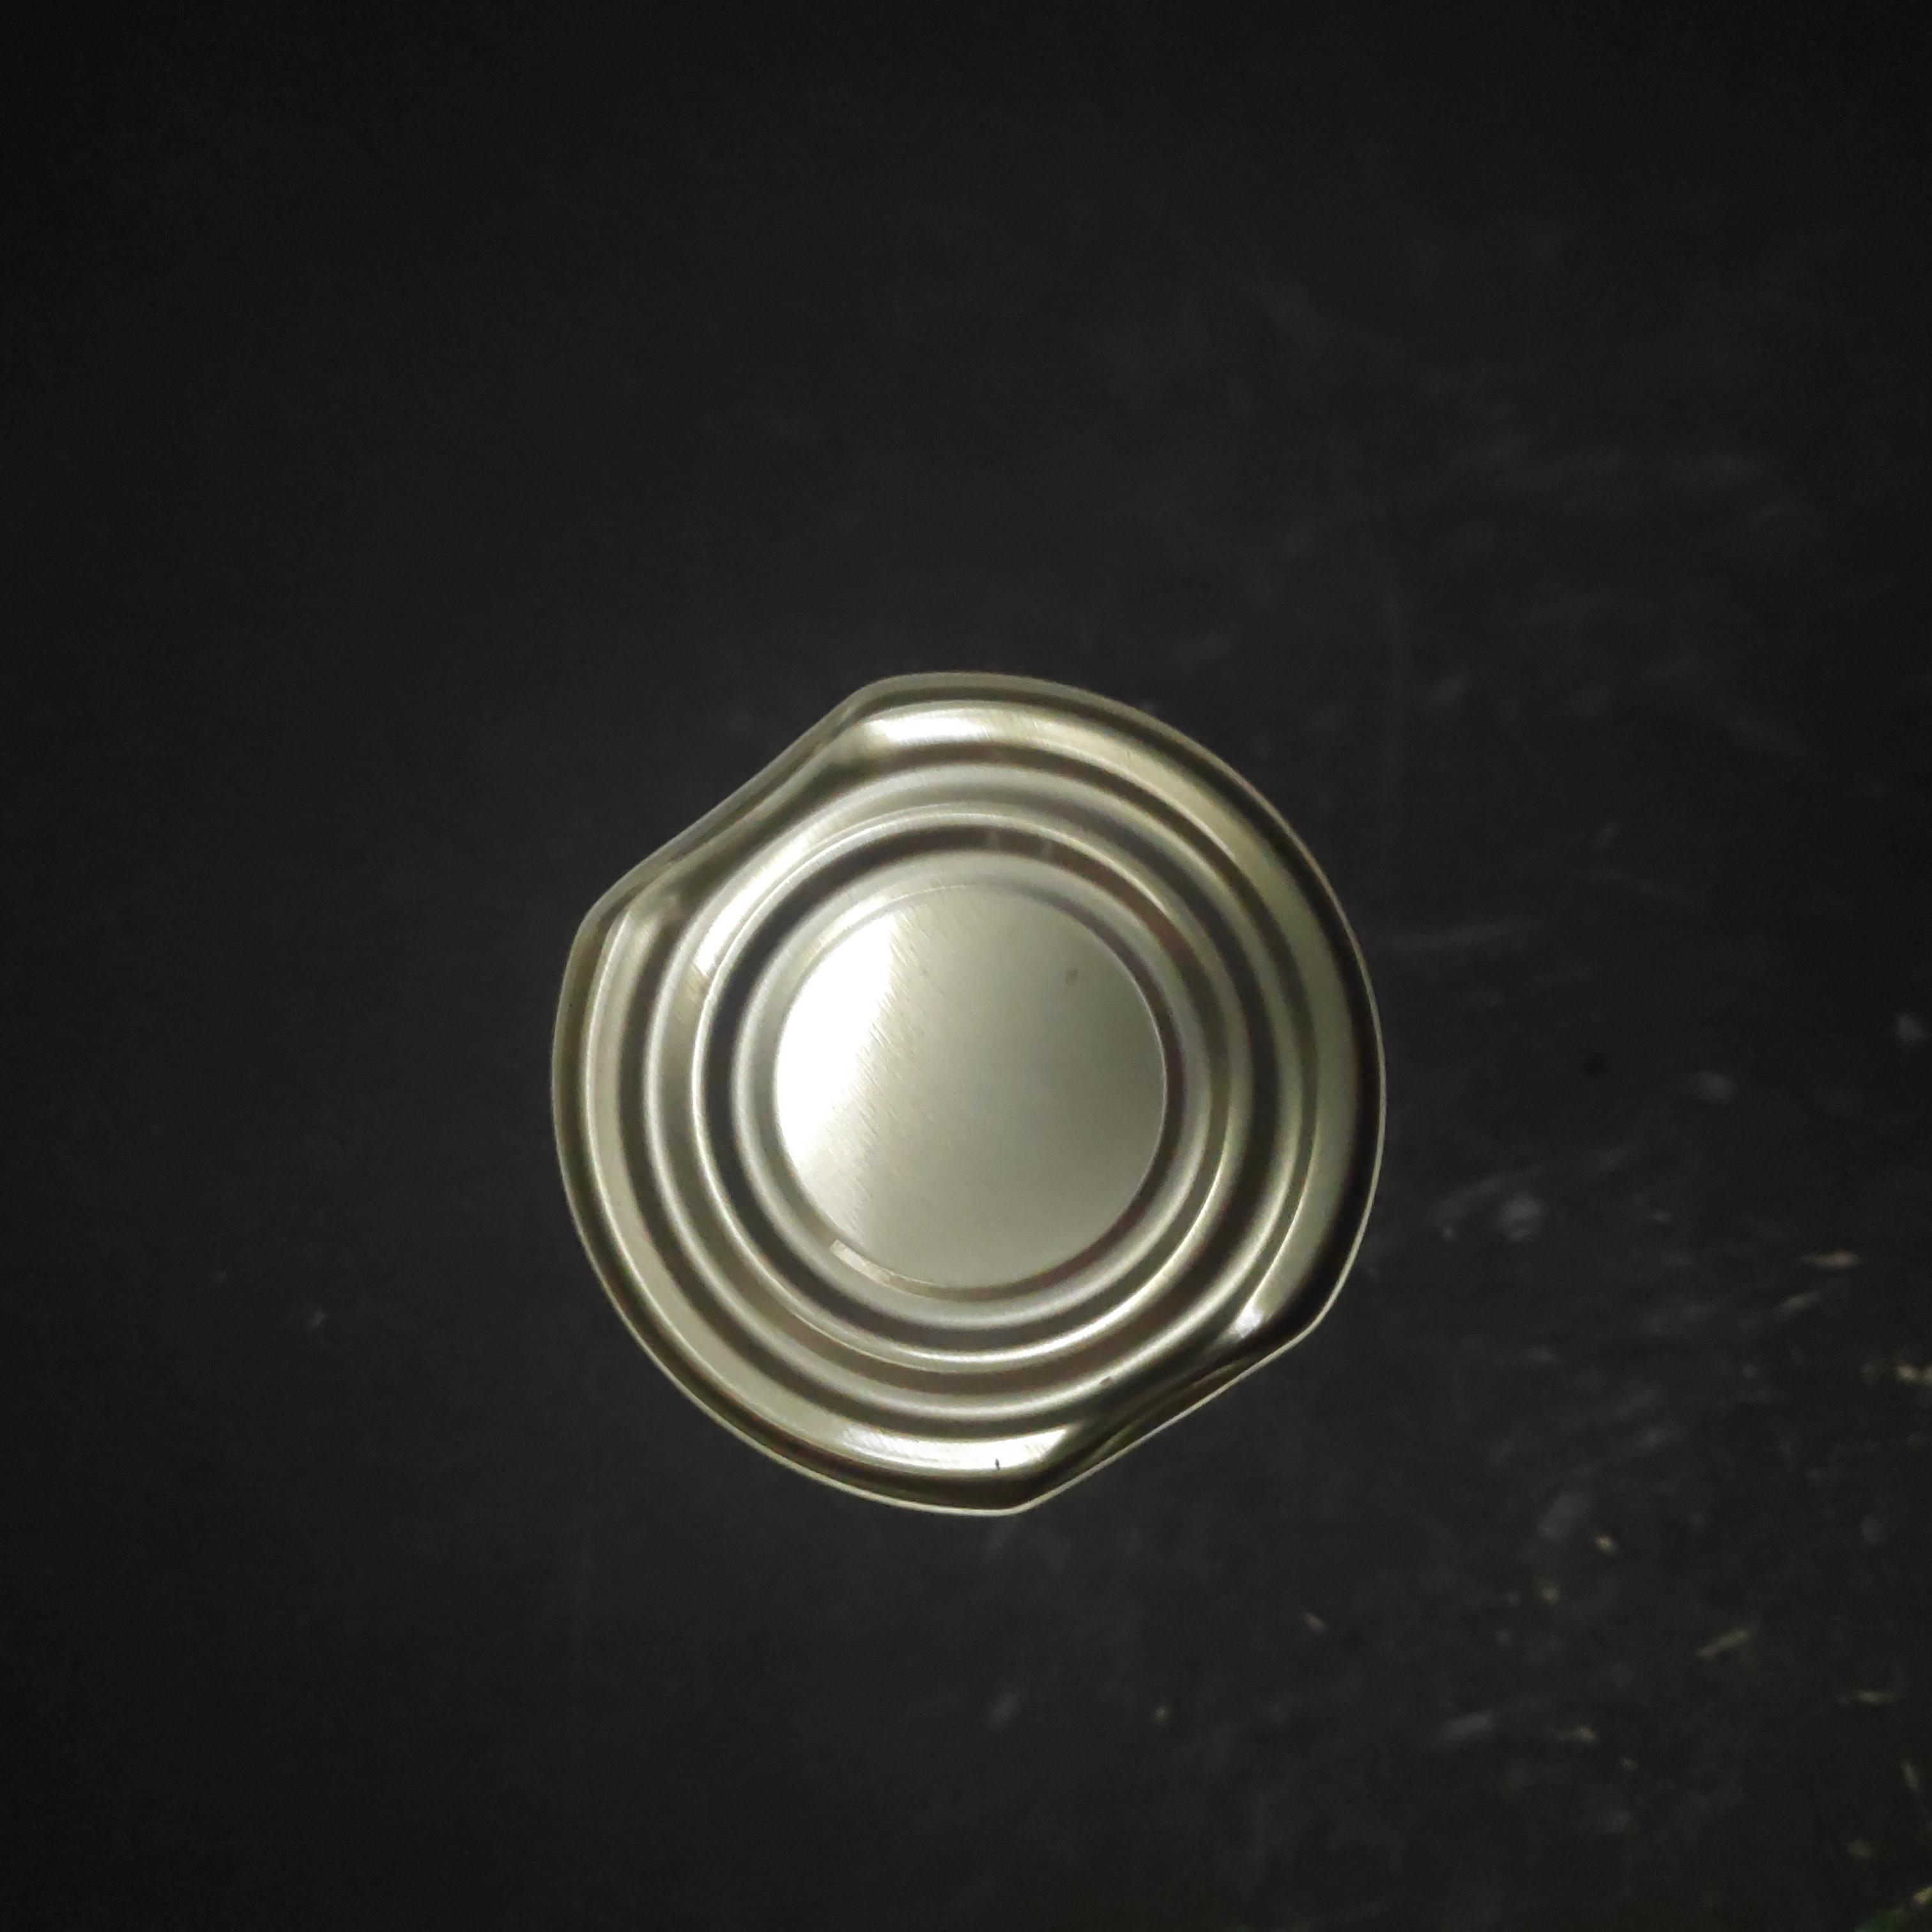Minor Defect: (522, 403, 1399, 1277)
